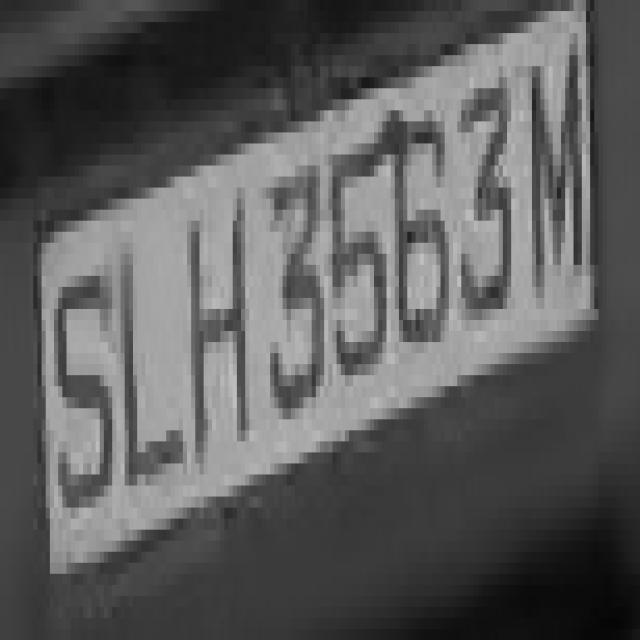3: (449, 55, 528, 353), (254, 122, 332, 408)
5: (316, 110, 390, 398)
6: (374, 55, 461, 397)
H: (183, 176, 253, 496)
L: (104, 198, 187, 552)
M: (511, 22, 590, 309)
S: (29, 210, 112, 530)
